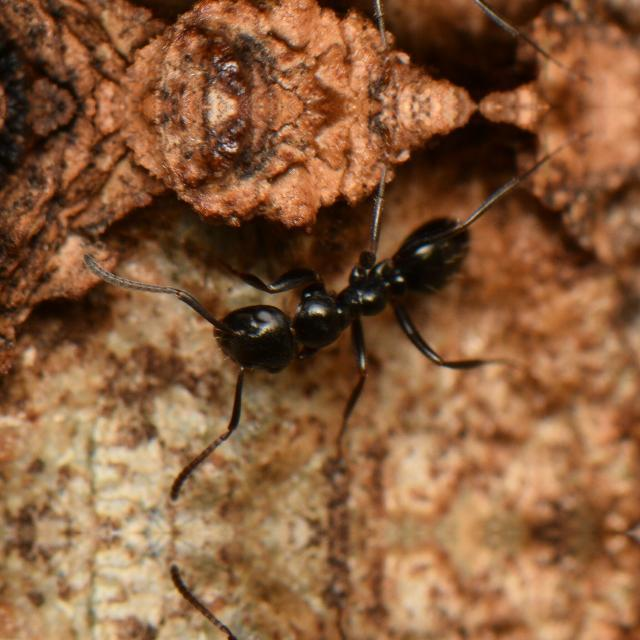Colobopsis: (138, 186, 528, 410)
